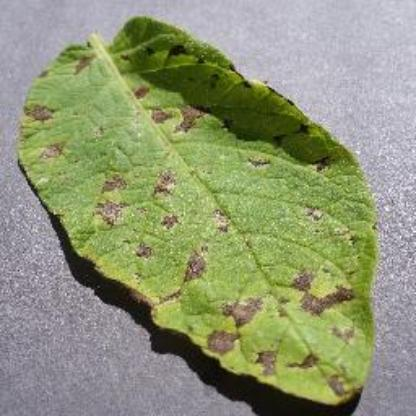Early-Blight: (18, 14, 392, 408)
